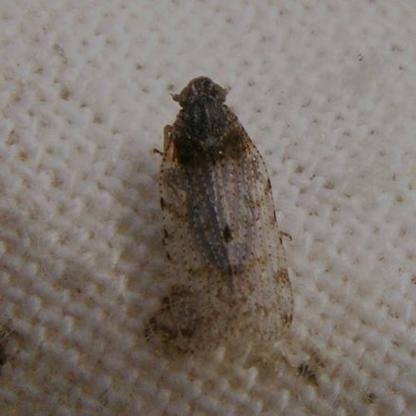brown-planthopper: (164, 72, 294, 343)
